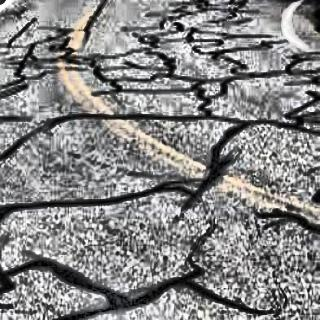alligator-crack: (0, 2, 320, 320)
